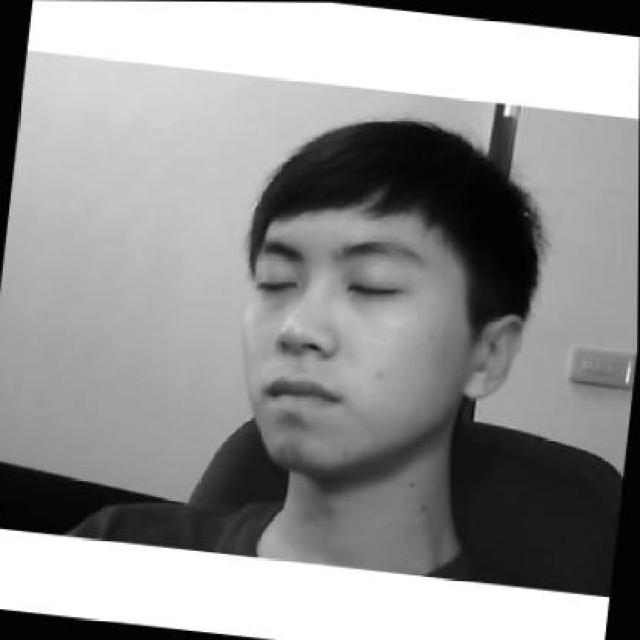inattentif: (222, 103, 544, 491)
